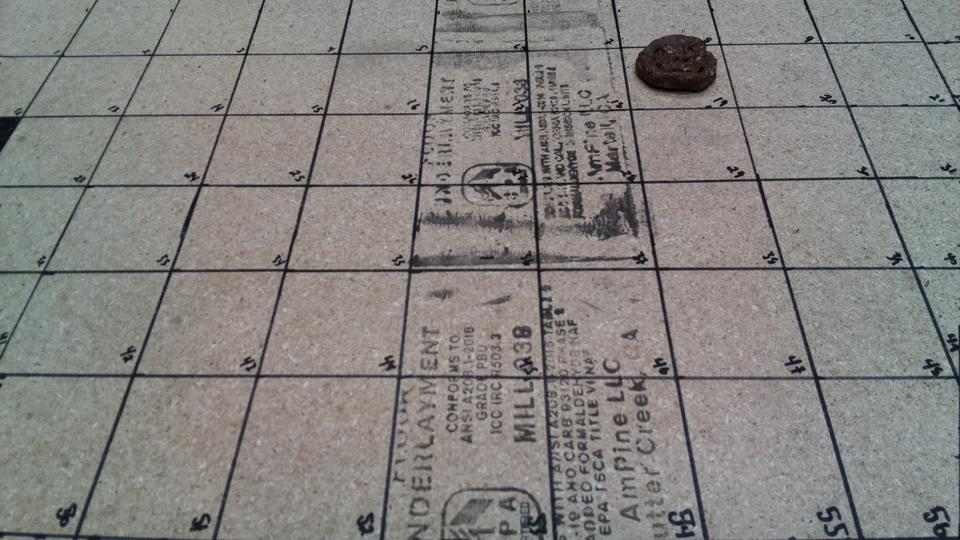poop: (633, 33, 719, 94)
